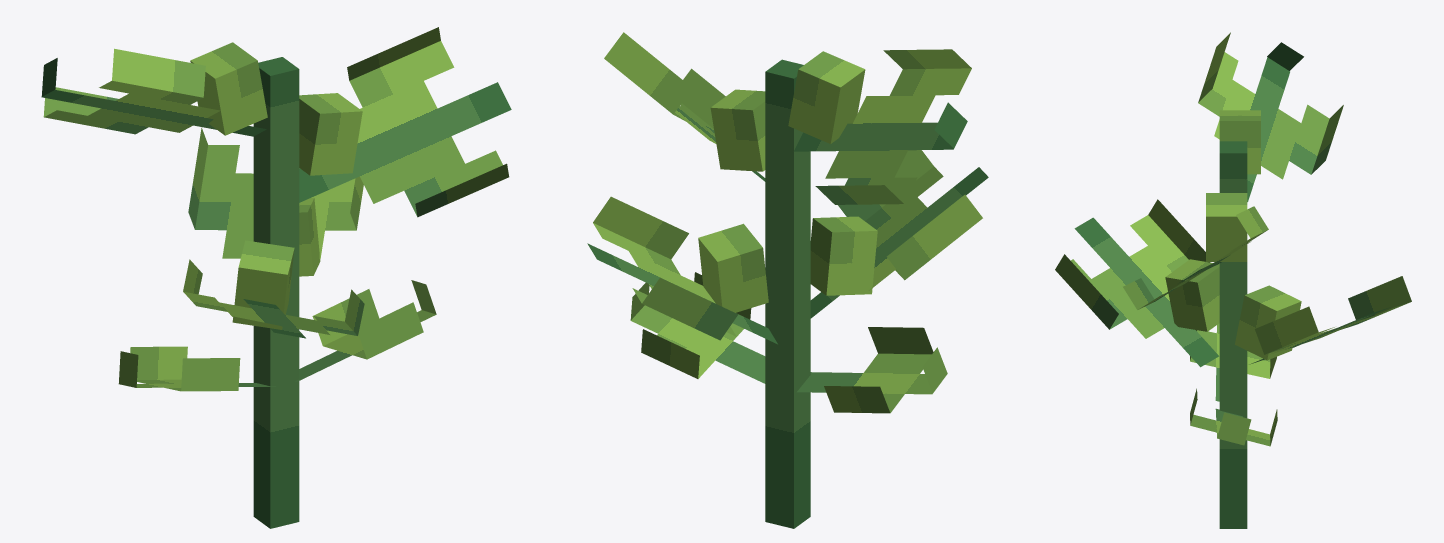
Rendered from cotton-stage3.gltf.
3 views of the same model, side by side, from view 1: azimuth 30°, elevation 25°; view 2: azimuth 150°, elevation 25°; view 3: azimuth 270°, elevation 25° (orthographic). The views are drawn at different scales.
Visible parts, largest first — view 1: cube (×11); view 2: cube (×11); view 3: cube (×11).
Boxes of the visible parts, bbox=[...] form: cube (×11): bbox=[41, 27, 511, 528]; cube (×11): bbox=[587, 32, 988, 528]; cube (×11): bbox=[1055, 32, 1411, 528].
Bounding box in the file's own units: 0.8704 × 1.08 × 0.887.
1 material, 1 textured.
